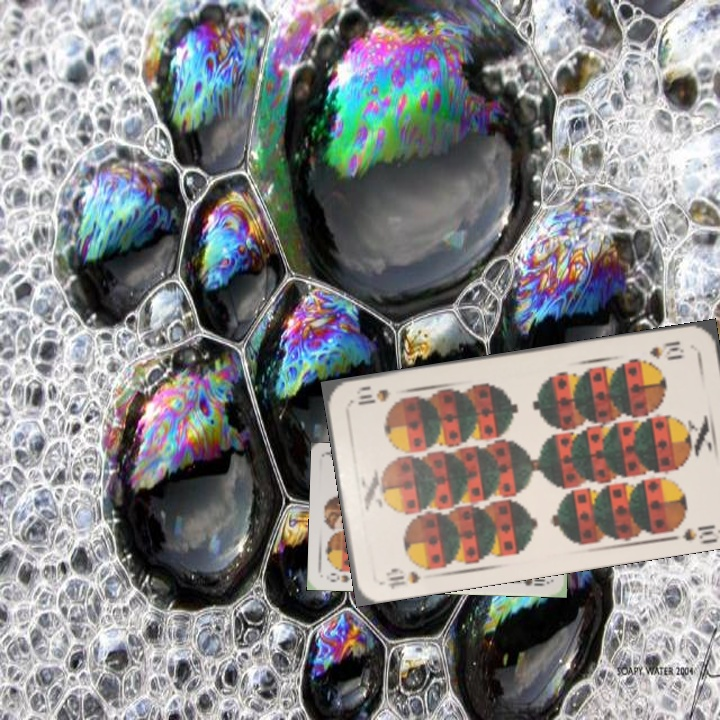S10: (382, 560, 435, 592), (645, 336, 687, 361)
SO: (326, 568, 352, 585)
